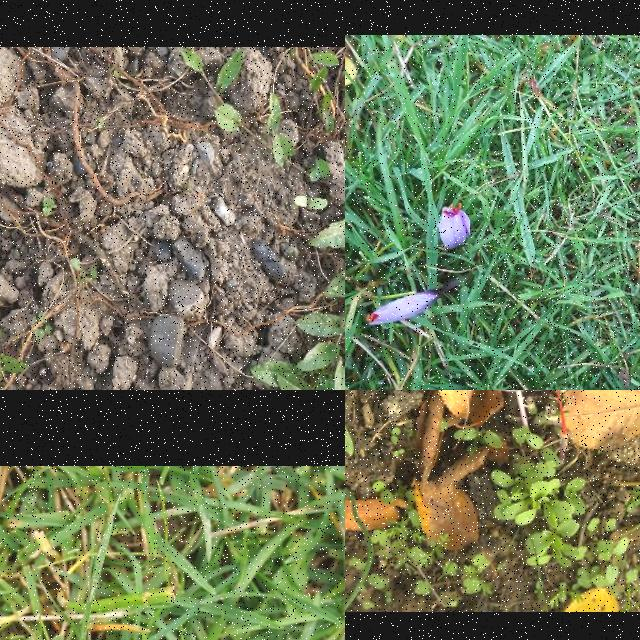flower: (477, 390, 571, 435), (366, 288, 442, 326), (436, 203, 472, 251)
